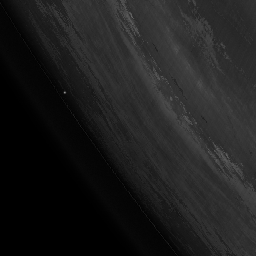Target: (62, 90, 67, 94)
